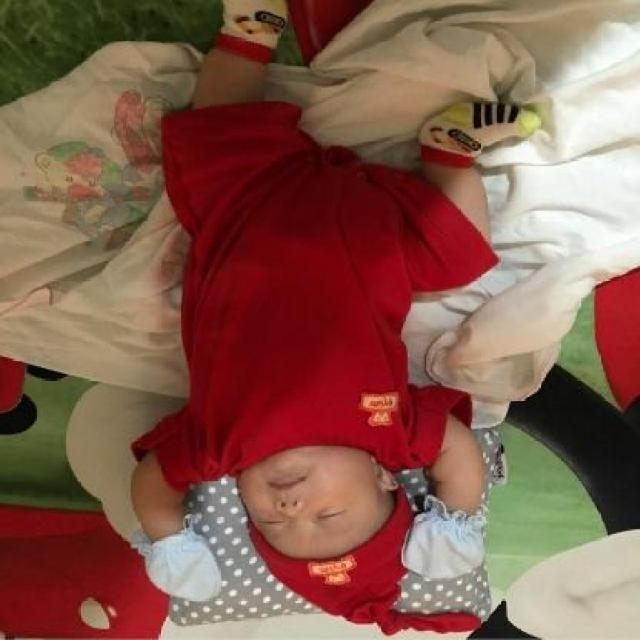child: (122, 5, 540, 629)
